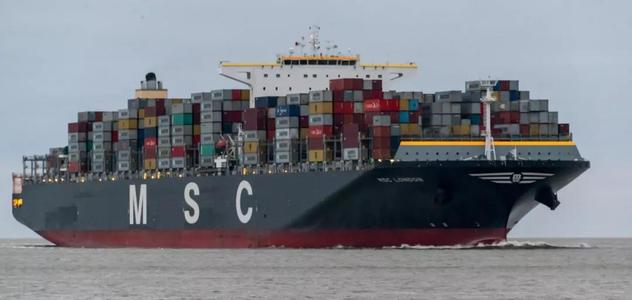Cargoship: (9, 24, 592, 245)
